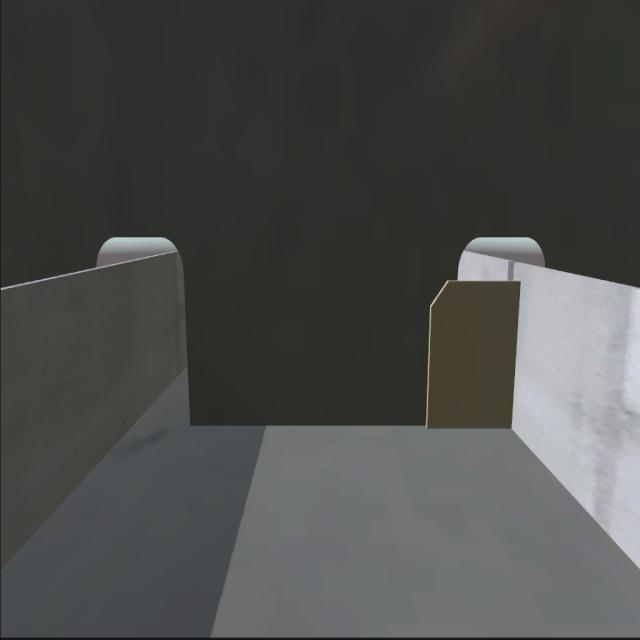fillet_yong_jeop_jang: (184, 411, 518, 444)
longi_yong_jeop_jang: (505, 280, 530, 434)
plate_CP03: (422, 274, 512, 425)
